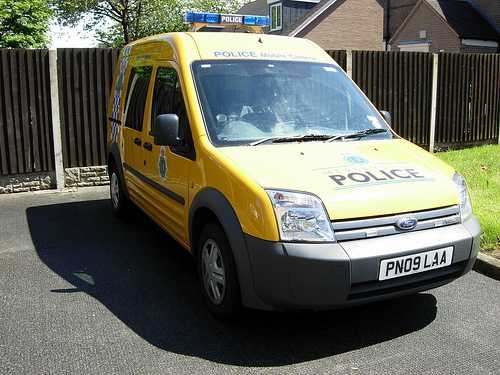Police Car: (96, 17, 469, 329)
